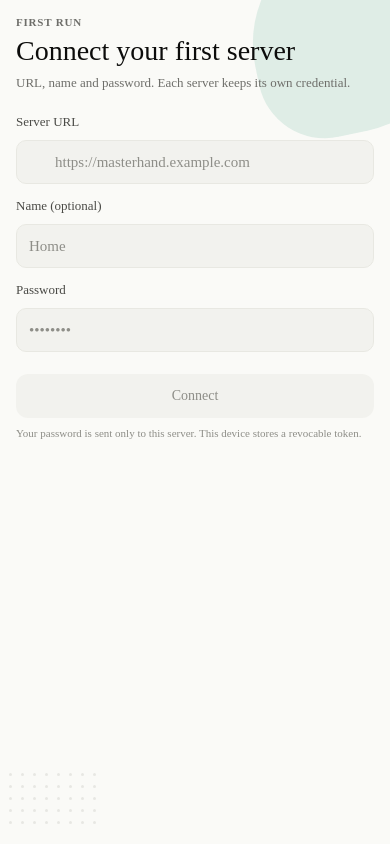
Test: App — login errors › maps a 429 response to its message
The width and height of the screenshot is (390, 844).
Step 1. Type "https://host" into the field with test id "server-url-input" → (195, 162), box top-left (16, 140), bottom-right (374, 184)
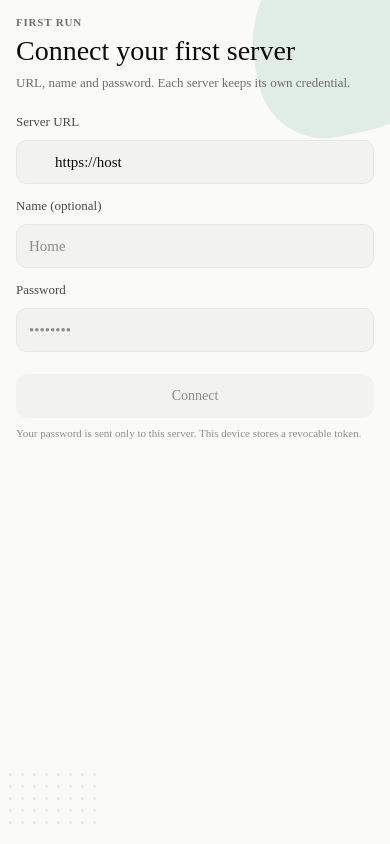
Step 2. Type "pw" into the password field with test id "password-input" → (195, 330), box top-left (16, 308), bottom-right (374, 352)
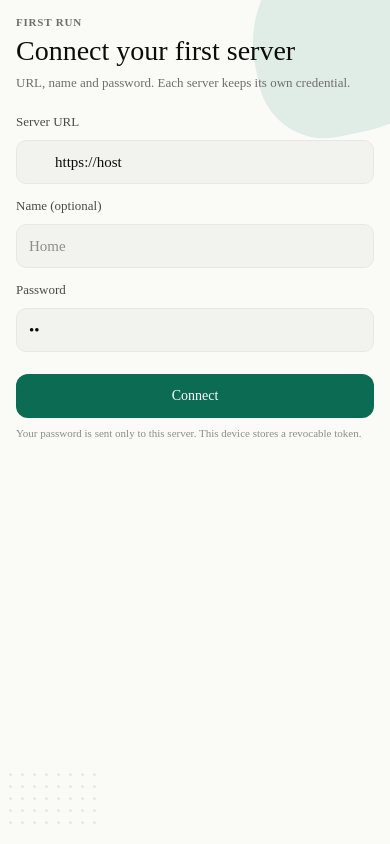
Step 3. Click the button with test id "connect-button" → (195, 396), box top-left (16, 374), bottom-right (374, 418)
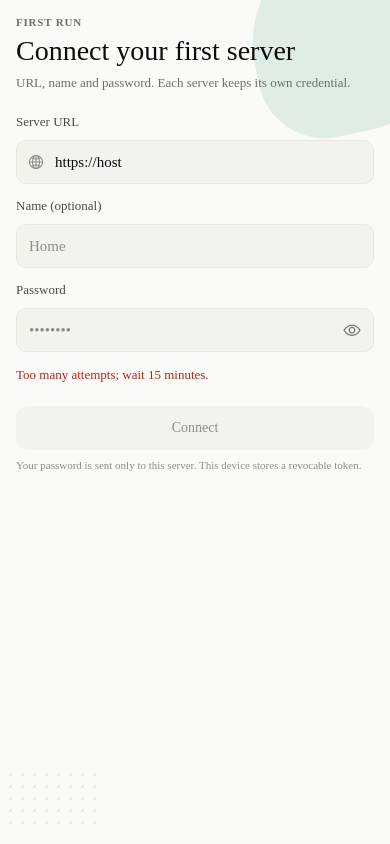
Result: the text "Too many attempts; wait 15 minutes." is shown at top-left (16, 367), bottom-right (209, 382)
